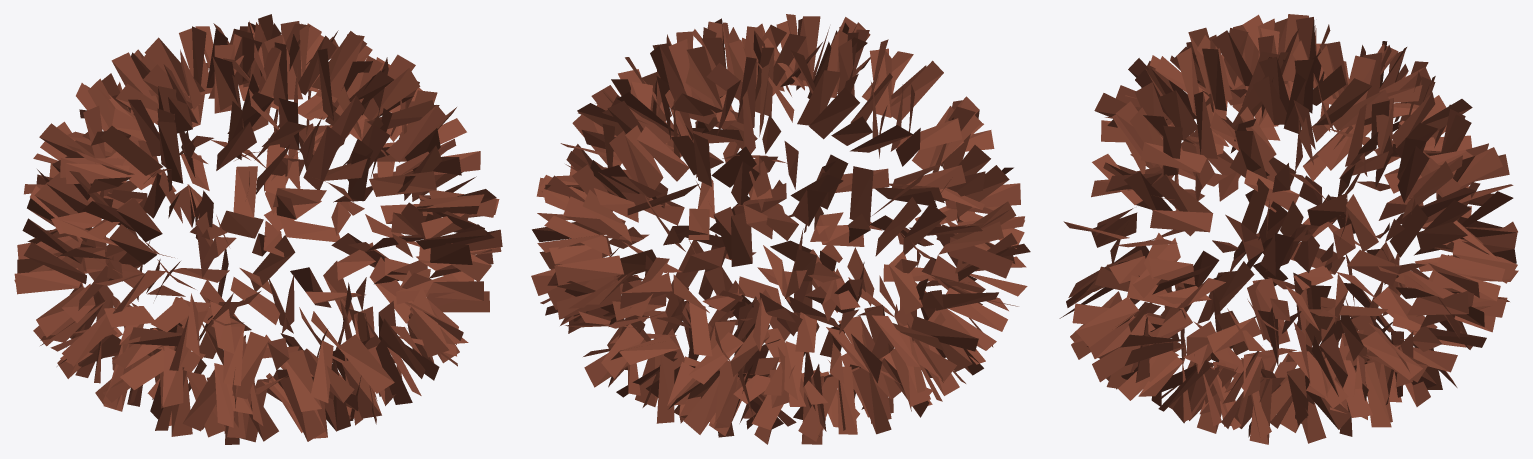
The model's file is Winter_Lv2.glb.
3 renders of one model, left to right at view 1: azimuth 30°, elevation 25°; view 2: azimuth 150°, elevation 25°; view 3: azimuth 270°, elevation 25°, orthographic.
Parts seen in each view (by area): view 1: Winter_Lv2; view 2: Winter_Lv2; view 3: Winter_Lv2.
Boxes of the visible parts, x1,y1,x2,y2 form: Winter_Lv2: (14,14,502,444); Winter_Lv2: (531,14,1030,444); Winter_Lv2: (1059,14,1518,444).
Bounding box in the file's own units: 1.45 × 1.19 × 1.36.
1 material, 1 textured.
